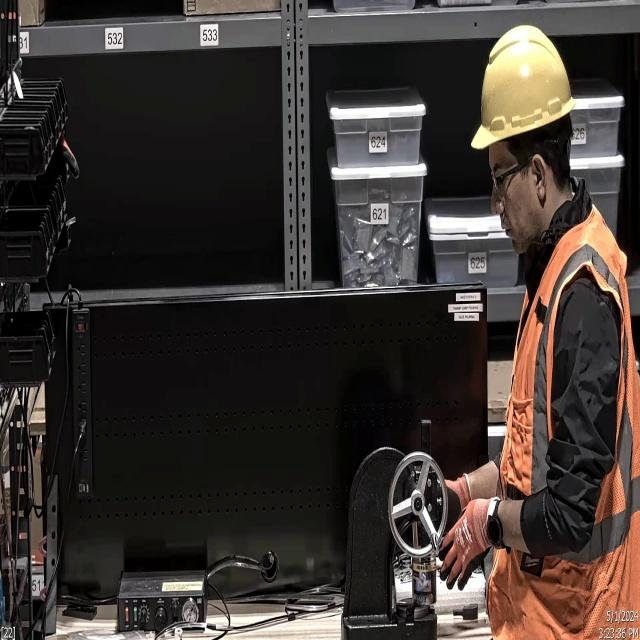construction-gloves: (432, 498, 493, 593)
